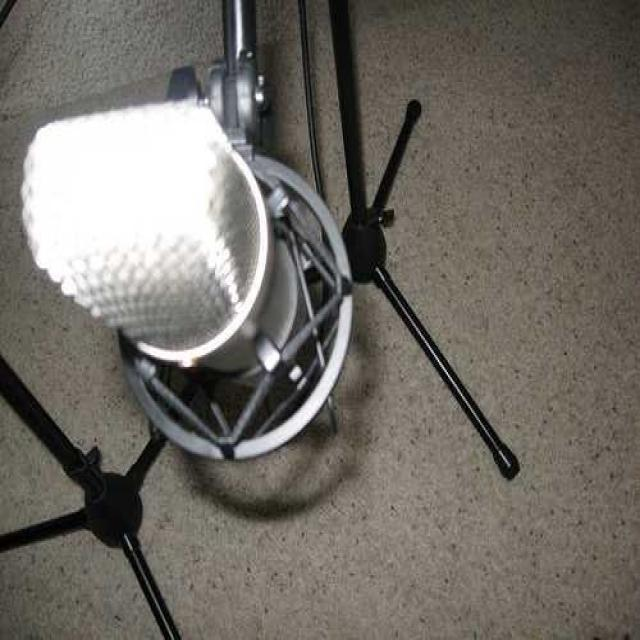microphone: (20, 106, 319, 432)
